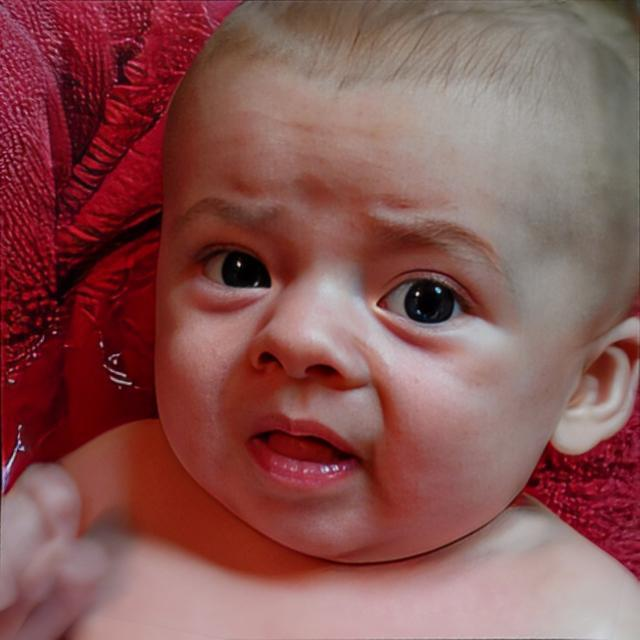fear: (153, 0, 640, 561)
